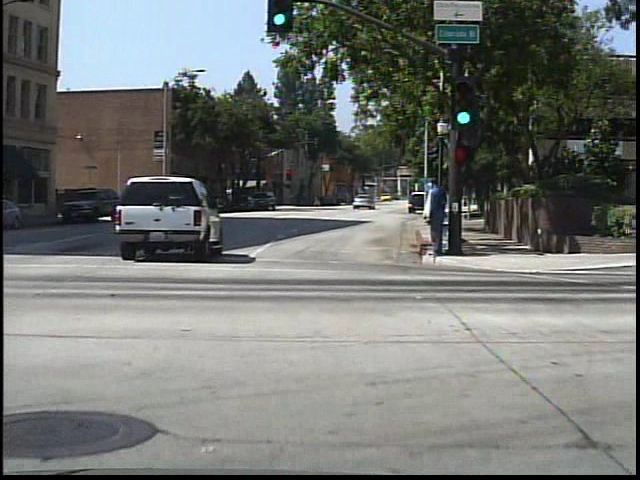person: (423, 174, 450, 258), (417, 179, 440, 261), (311, 193, 323, 209)
